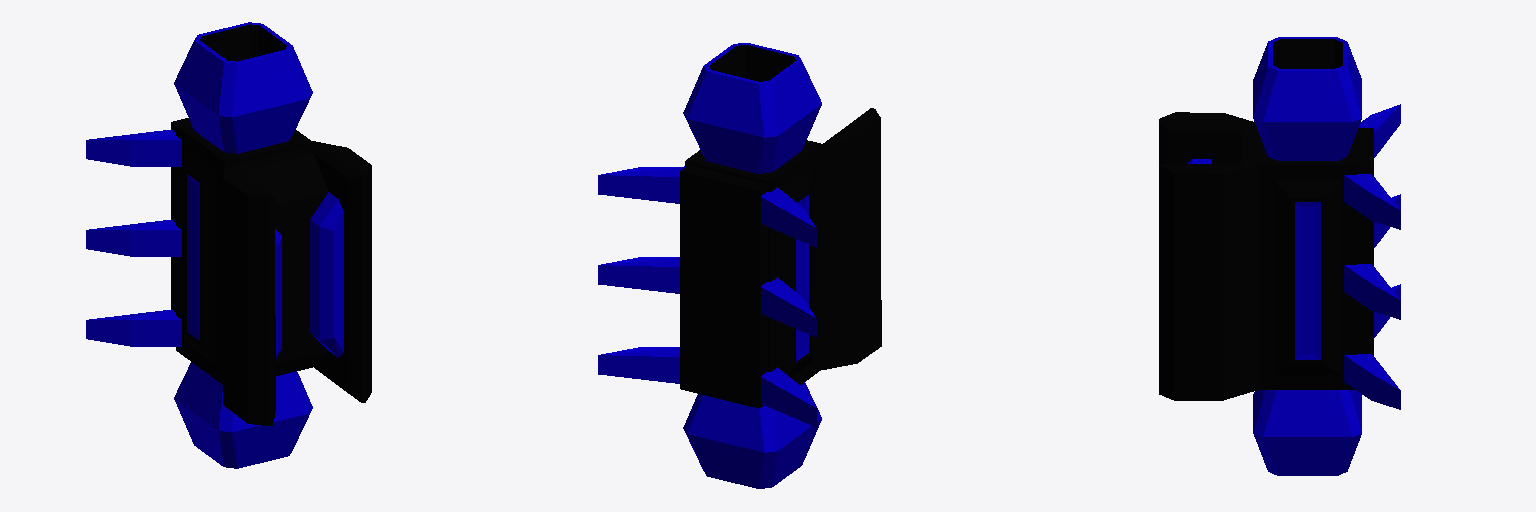
The model's file is ReactorAlpha.obj.
3 renders of one model, left to right at view 1: azimuth 30°, elevation 25°; view 2: azimuth 150°, elevation 25°; view 3: azimuth 270°, elevation 25°, orthographic.
Visible parts, largest first — view 1: Box004, Object003, Object001, Box001, Box002, Box003, Object005; view 2: Box004, Object003, Box001, Box002, Box003, Object005; view 3: Box004, Object003, Box001, Box003, Box002, Object005.
Part boxes in pixels (x1,y1,x2,y2): Box004: (171,118,371,426); Object003: (174,22,312,468); Object001: (275,192,343,358); Box001: (86,129,181,166); Box002: (86,219,181,256); Box003: (86,309,181,346); Object005: (200,24,286,61); Box004: (680,108,881,408); Object003: (683,43,821,488); Box001: (598,166,816,247); Box002: (598,257,816,337); Box003: (598,347,816,427); Object005: (709,45,796,81); Box004: (1159,112,1373,400); Object003: (1253,37,1361,475); Box001: (1344,104,1400,229); Box003: (1344,284,1400,409); Box002: (1344,194,1400,319); Object005: (1273,39,1342,68).
Size of the model in its own units: 255 by 450 by 244.